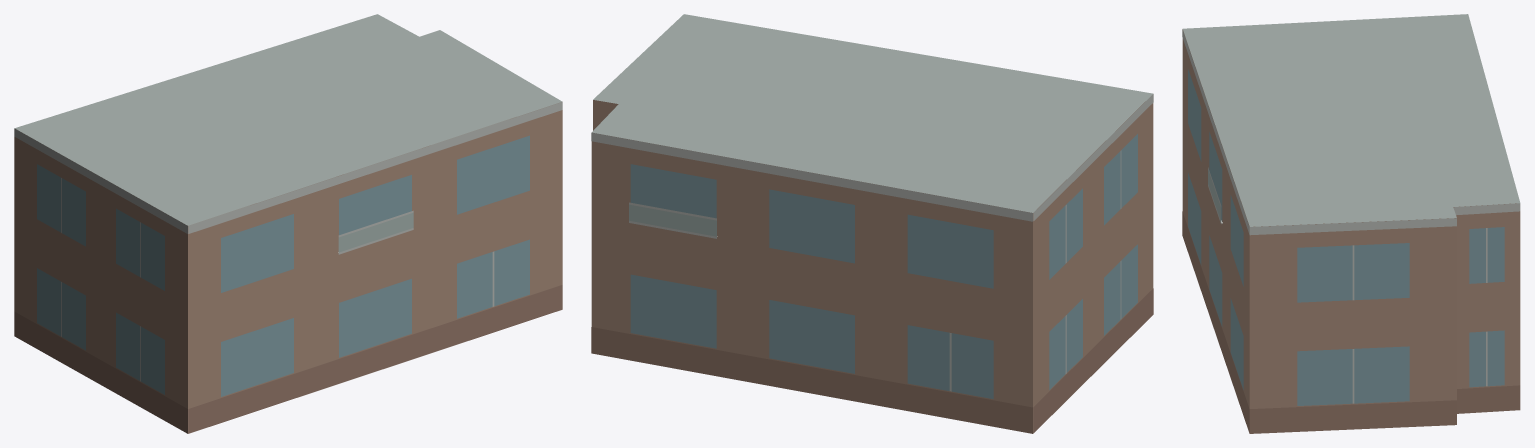
The model's file is survey-upis-32662731.glb.
3 renders of one model, left to right at view 1: azimuth 30°, elevation 25°; view 2: azimuth 150°, elevation 25°; view 3: azimuth 270°, elevation 25°, orthographic. The views are drawn at different scales.
Visible parts, largest first — view 1: survey-upis-32662731.tmp; view 2: survey-upis-32662731.tmp; view 3: survey-upis-32662731.tmp.
Boxes of the visible parts, box(x1,y1,x2,y2) form: survey-upis-32662731.tmp: box(14, 14, 562, 433); survey-upis-32662731.tmp: box(591, 14, 1153, 433); survey-upis-32662731.tmp: box(1182, 14, 1520, 433).
Bounding box in the file's own units: 13.47 × 6.1 × 9.04.
